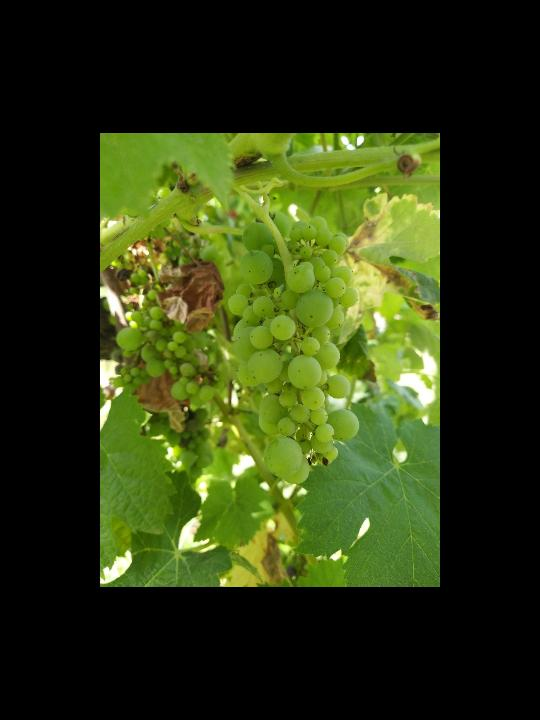grape: (226, 210, 361, 487)
